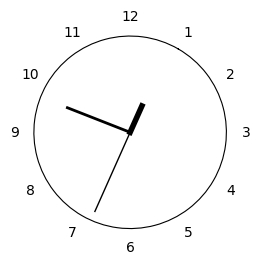12: (122, 10, 138, 22)
circle: (34, 36, 227, 229)
hours: (66, 106, 128, 131), (127, 102, 145, 135)
seconds: (94, 135, 129, 213)
